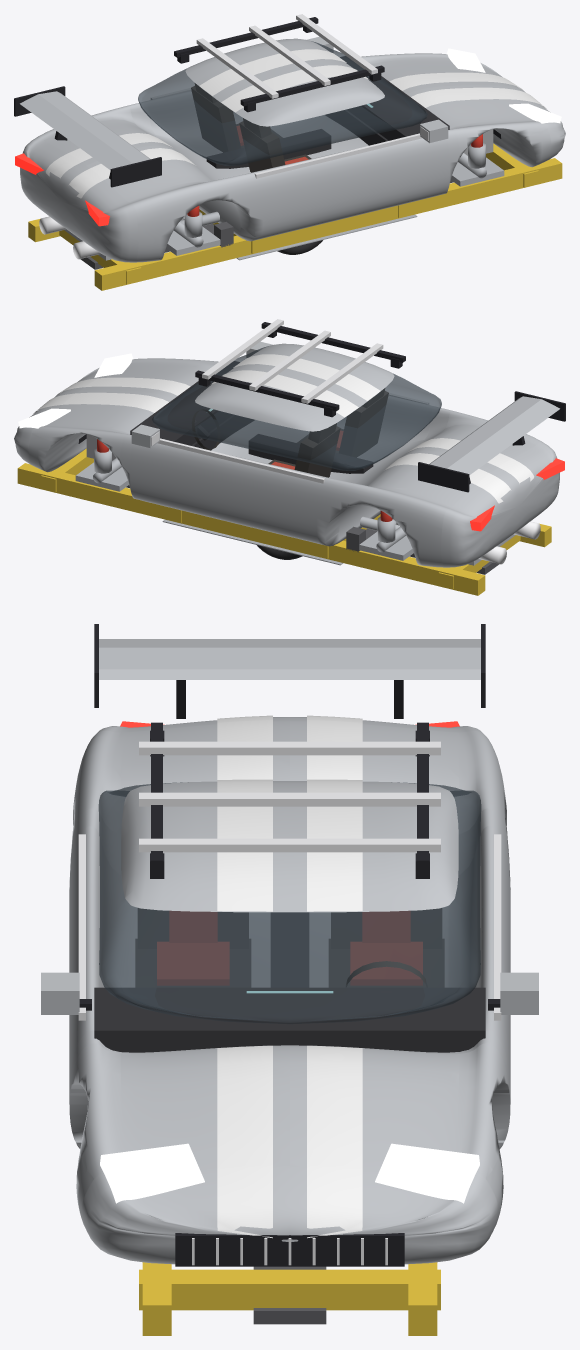
File: car.glb
3 renders of one model, top to bottom at view 1: azimuth 30°, elevation 25°; view 2: azimuth 150°, elevation 25°; view 3: azimuth 270°, elevation 25°, orthographic. The views are drawn at different scales.
Visible parts, largest first — view 1: door_R, skid, stripes, glass_rear, bumper_R, roof, body_floor, dashboard, spoiler, roofrack, powertrain, hood (+17 smaller); view 2: door_L, skid, stripes, glass_rear, bumper_R, roof, body_floor, dashboard, spoiler, roofrack, powertrain, hood (+17 smaller); view 3: glass_front, stripes, dashboard, hood, roof, bumper_F, spoiler, roofrack, skid, glass_R, glass_L, body_floor (+18 smaller).
Boxes of the visible parts, bbox=[...] form: door_R: bbox=[236, 138, 449, 236]; skid: bbox=[28, 143, 562, 290]; stripes: bbox=[45, 49, 546, 198]; glass_rear: bbox=[138, 69, 273, 165]; bumper_R: bbox=[20, 136, 138, 262]; roof: bbox=[185, 38, 384, 126]; body_floor: bbox=[128, 101, 459, 241]; dashboard: bbox=[206, 56, 449, 168]; spoiler: bbox=[14, 86, 161, 187]; roofrack: bbox=[174, 14, 384, 112]; powertrain: bbox=[39, 129, 504, 260]; hood: bbox=[371, 58, 532, 128]; door_L: bbox=[130, 443, 343, 541]; skid: bbox=[17, 448, 551, 595]; stripes: bbox=[33, 354, 534, 503]; glass_rear: bbox=[306, 374, 441, 470]; bumper_R: bbox=[441, 441, 559, 567]; roof: bbox=[195, 343, 394, 431]; body_floor: bbox=[120, 406, 451, 546]; dashboard: bbox=[130, 361, 373, 473]; spoiler: bbox=[418, 391, 565, 492]; roofrack: bbox=[195, 319, 405, 417]; powertrain: bbox=[75, 434, 540, 565]; hood: bbox=[47, 363, 208, 433]; glass_front: bbox=[99, 900, 480, 1024]; stripes: bbox=[217, 715, 362, 1238]; dashboard: bbox=[94, 912, 485, 1052]; hood: bbox=[121, 1047, 458, 1169]; roof: bbox=[121, 781, 458, 912]; bumper_F: bbox=[82, 1166, 497, 1264]; spoiler: bbox=[94, 624, 485, 718]; roofrack: bbox=[139, 722, 440, 878]; skid: bbox=[139, 1262, 440, 1335]; glass_R: bbox=[99, 790, 289, 973]; glass_L: bbox=[290, 790, 480, 973]; body_floor: bbox=[69, 808, 510, 1148].
Size of the model in its own units: 4.54 by 1.82 by 2.06.
